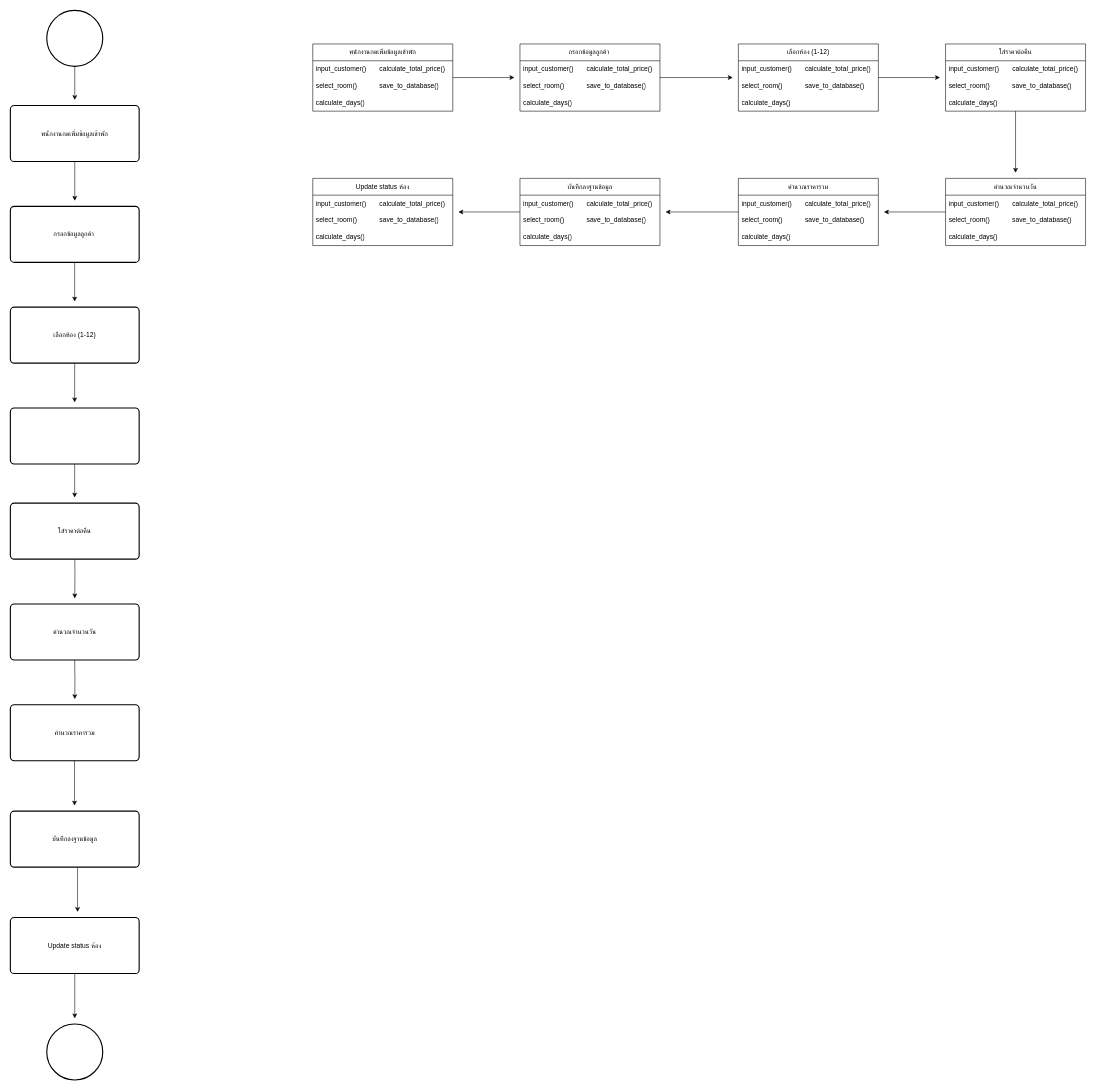
Some shapes in this 1095 by 1090 pixel diagram are drawn without their labels. The centre of each missing label's shape, as x and y in pixels:
"End กลับเมนูหลัก" goes at (x=74, y=1051).
"Start" goes at (x=74, y=38).
"เลือกวันเข้า -ออก" goes at (x=74, y=435).
